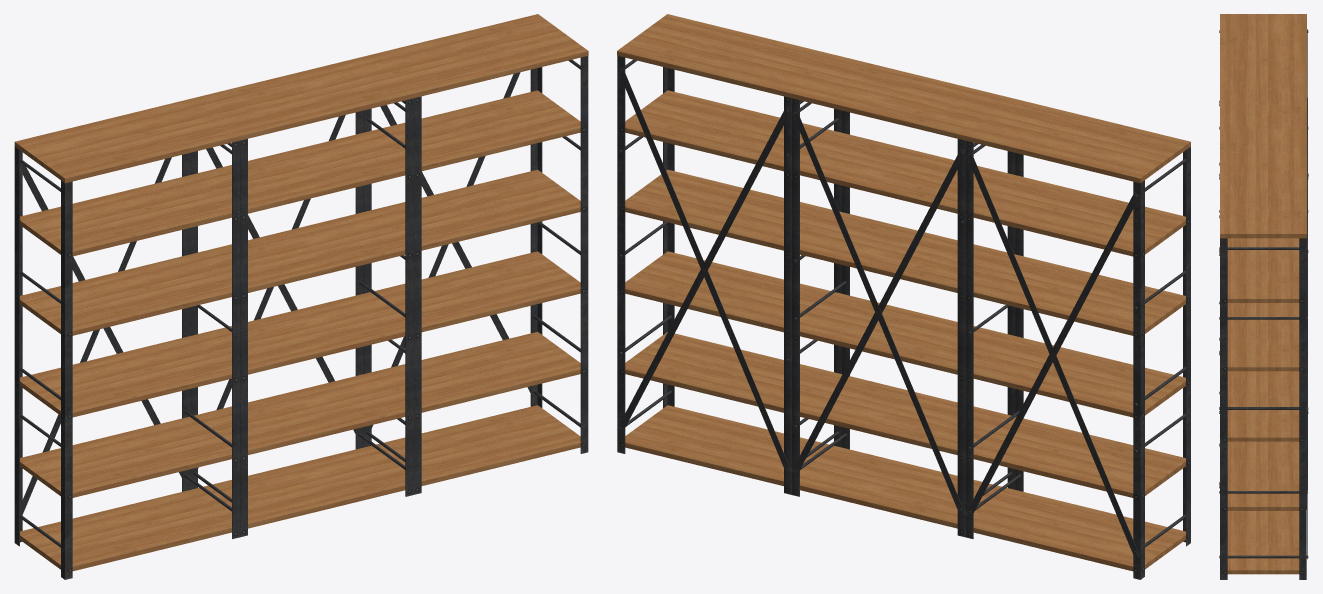
File: rack2.FBX
3 views of the same model, side by side, from view 1: azimuth 30°, elevation 25°; view 2: azimuth 150°, elevation 25°; view 3: azimuth 270°, elevation 25° (orthographic). The views are drawn at different scales.
Visible parts, largest first — view 1: rack2; view 2: rack2; view 3: rack2.
Part boxes in pixels (x1,y1,x2,y2): rack2: [14, 14, 588, 579]; rack2: [617, 14, 1190, 579]; rack2: [1219, 14, 1308, 579].
Bounding box in the file's own units: 115 × 19.68 × 84.16.
1 material, 1 textured.
